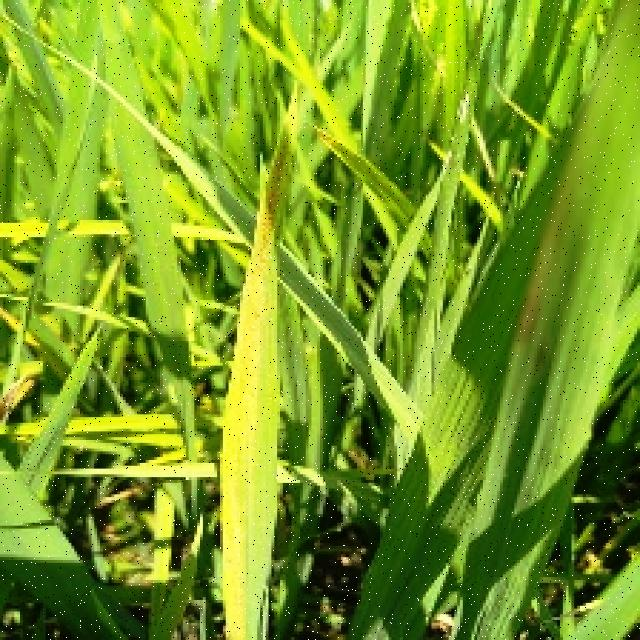-: (334, 0, 640, 640), (29, 0, 44, 17)
